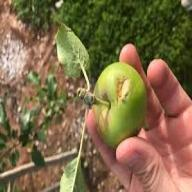apple: (92, 59, 147, 146)
